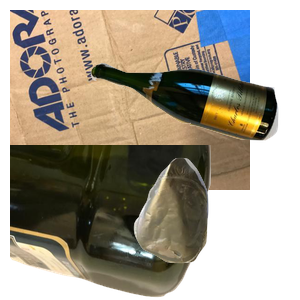cardboard: (10, 10, 250, 190)
glass: (88, 60, 300, 193)
plastic: (10, 145, 213, 300)
trash: (131, 155, 300, 300)
